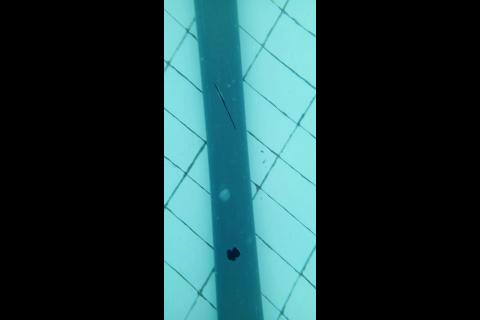kebocoran: (225, 245, 242, 263)
keretakan: (211, 80, 236, 131)
